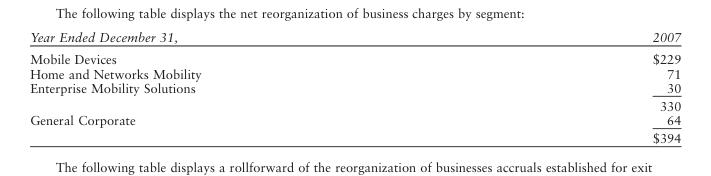table: (29, 29, 680, 145)
table column: (29, 29, 426, 145), (426, 29, 680, 145)
table row: (29, 29, 680, 47), (29, 47, 680, 65), (29, 128, 680, 145), (29, 80, 680, 96), (29, 96, 680, 112), (29, 112, 680, 128), (29, 65, 680, 80)
